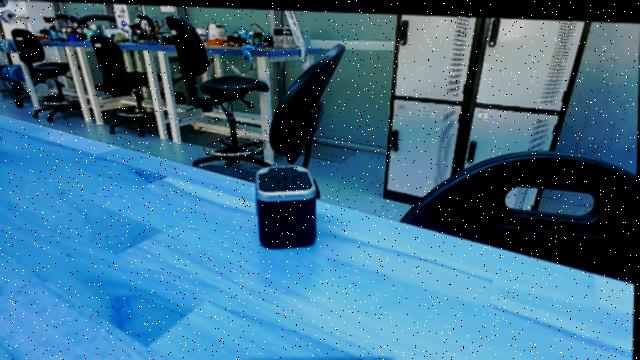adapter: (246, 158, 323, 253)
